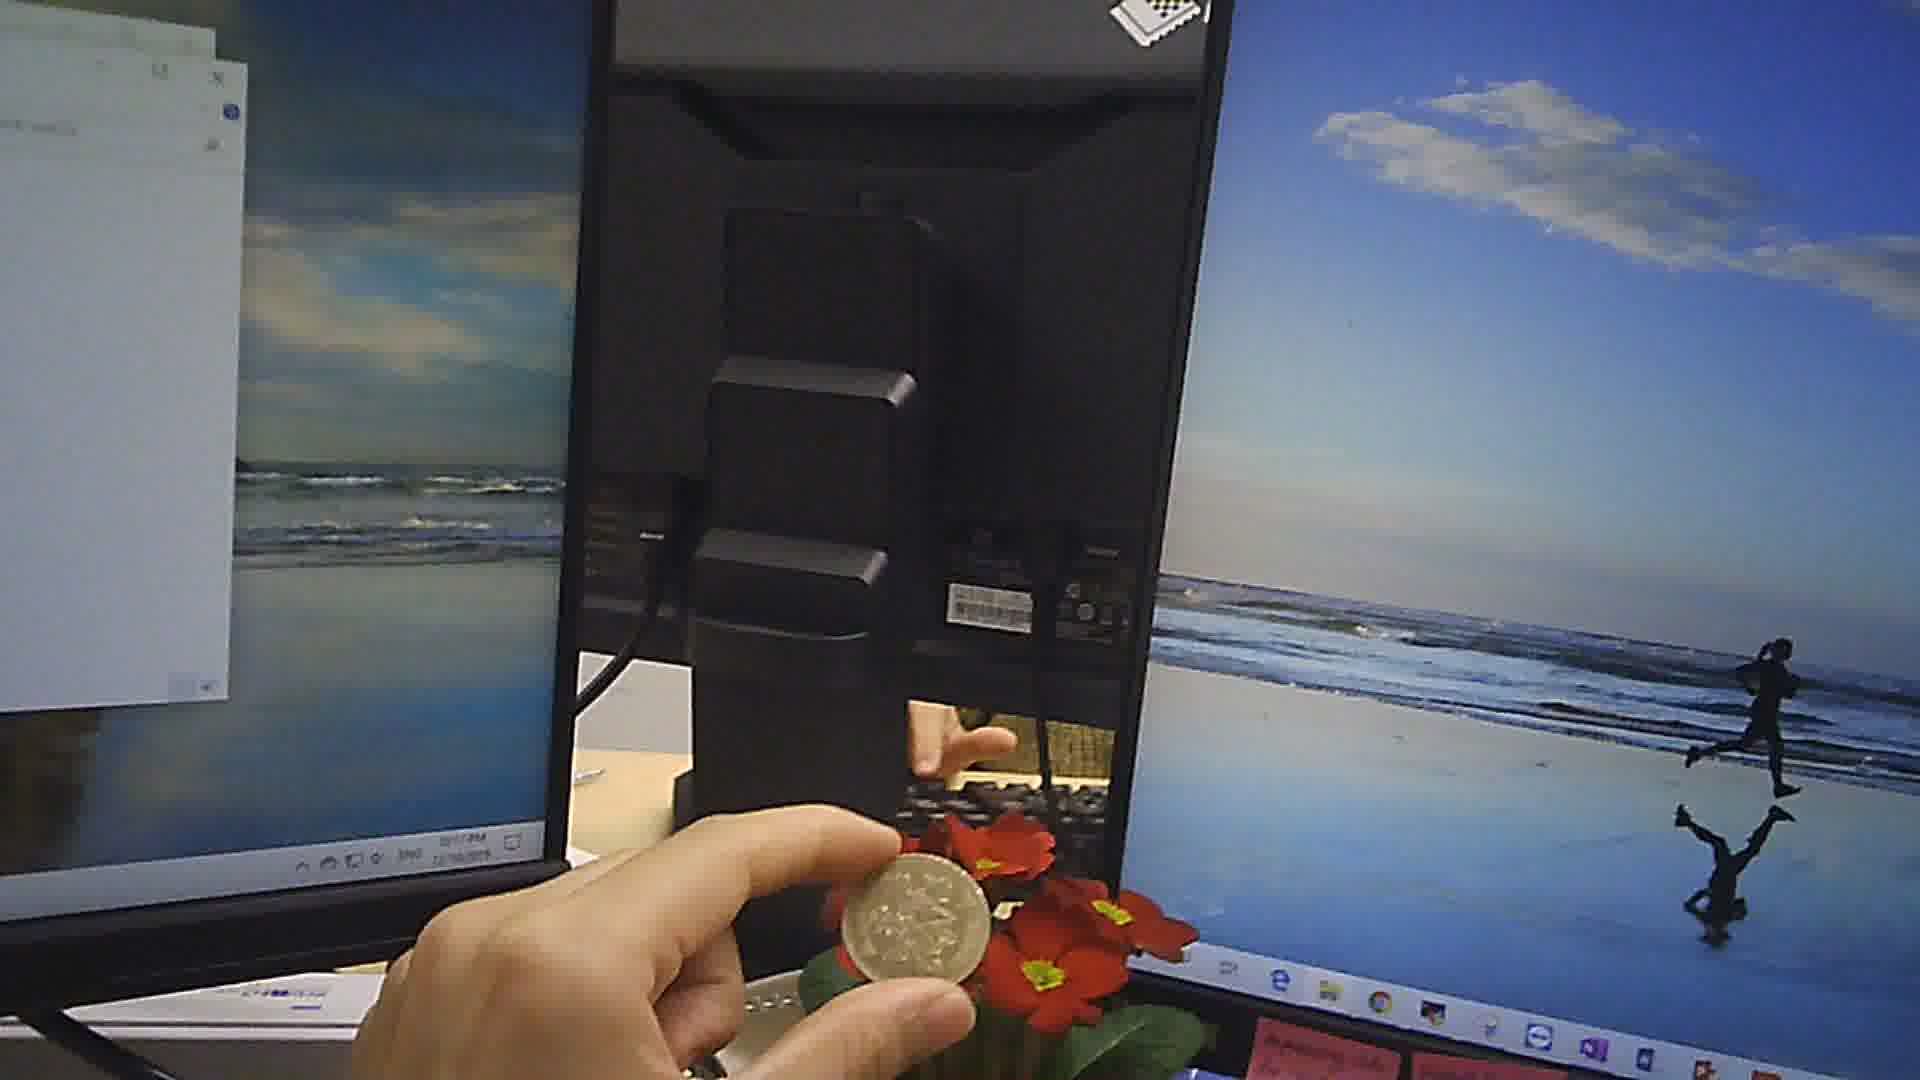500 Yen: (841, 853, 1000, 981)
